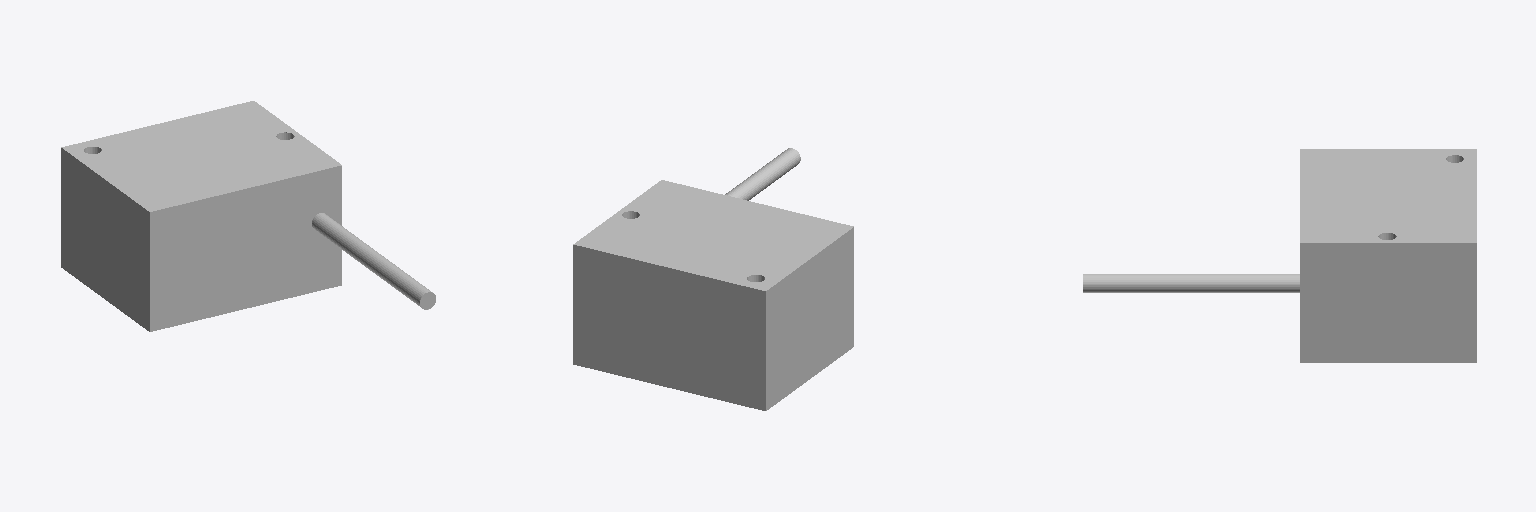
The picture shows the model from 3 angles: view 1: azimuth 30°, elevation 25°; view 2: azimuth 150°, elevation 25°; view 3: azimuth 270°, elevation 25°; orthographic projection.
Visible parts, largest first — view 1: DirectConnectNode_9_DC_Shell; view 2: DirectConnectNode_9_DC_Shell; view 3: DirectConnectNode_9_DC_Shell.
Part boxes in pixels (left/top/right/bottom): DirectConnectNode_9_DC_Shell: left=61, top=101, right=435, bottom=331; DirectConnectNode_9_DC_Shell: left=573, top=148, right=853, bottom=410; DirectConnectNode_9_DC_Shell: left=1083, top=149, right=1476, bottom=362.
Bounding box in the file's own units: 51.4 × 30.6 × 90.9.